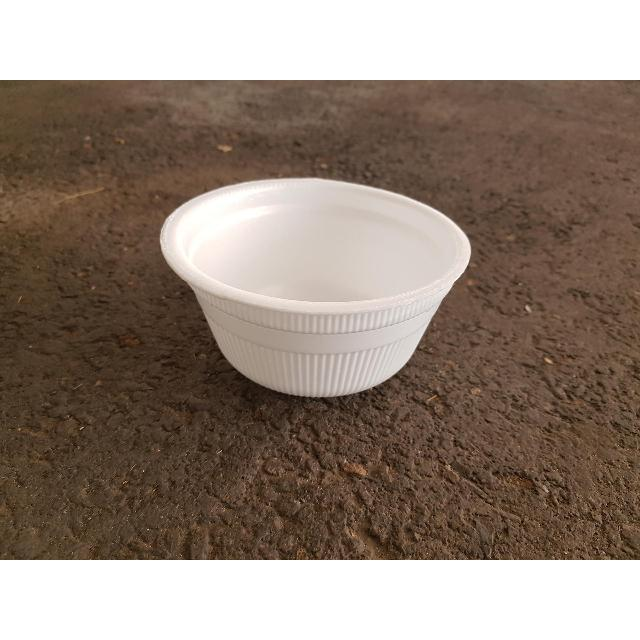Plastico descartable: (158, 178, 472, 400)
